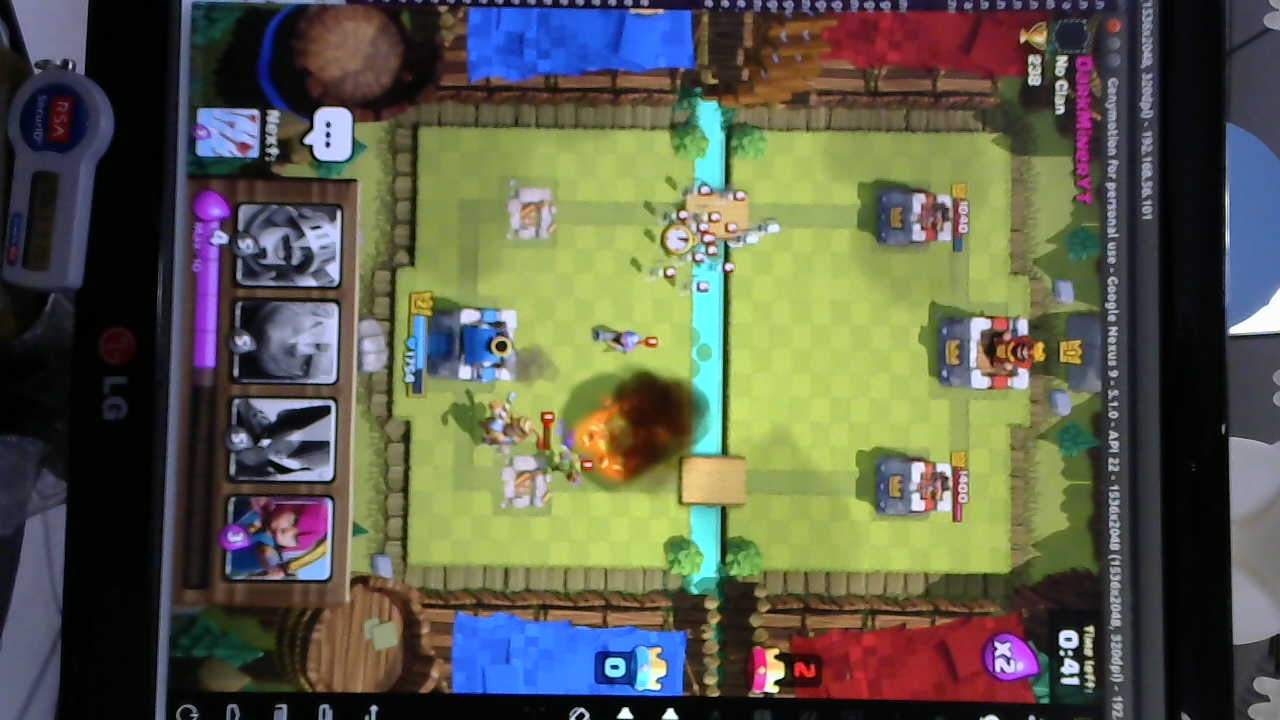darena: (502, 180, 558, 249), (496, 448, 549, 518)
earena: (871, 184, 956, 250), (876, 455, 954, 517)
eking: (941, 314, 1040, 397)
king: (432, 305, 518, 388)
musketeer: (585, 323, 649, 359)
prince: (478, 395, 540, 448)
skeletonarmy: (657, 189, 761, 281)
speargoblin: (538, 438, 599, 489)
